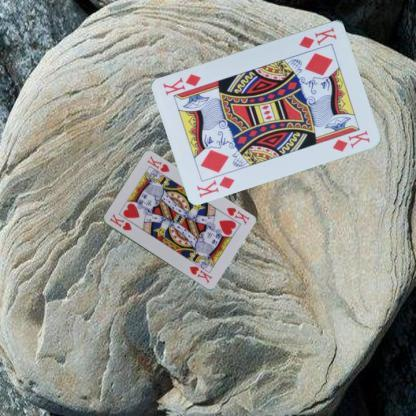Kd: (297, 23, 338, 50), (194, 174, 236, 198)
Kh: (223, 204, 250, 226), (107, 211, 133, 232)
